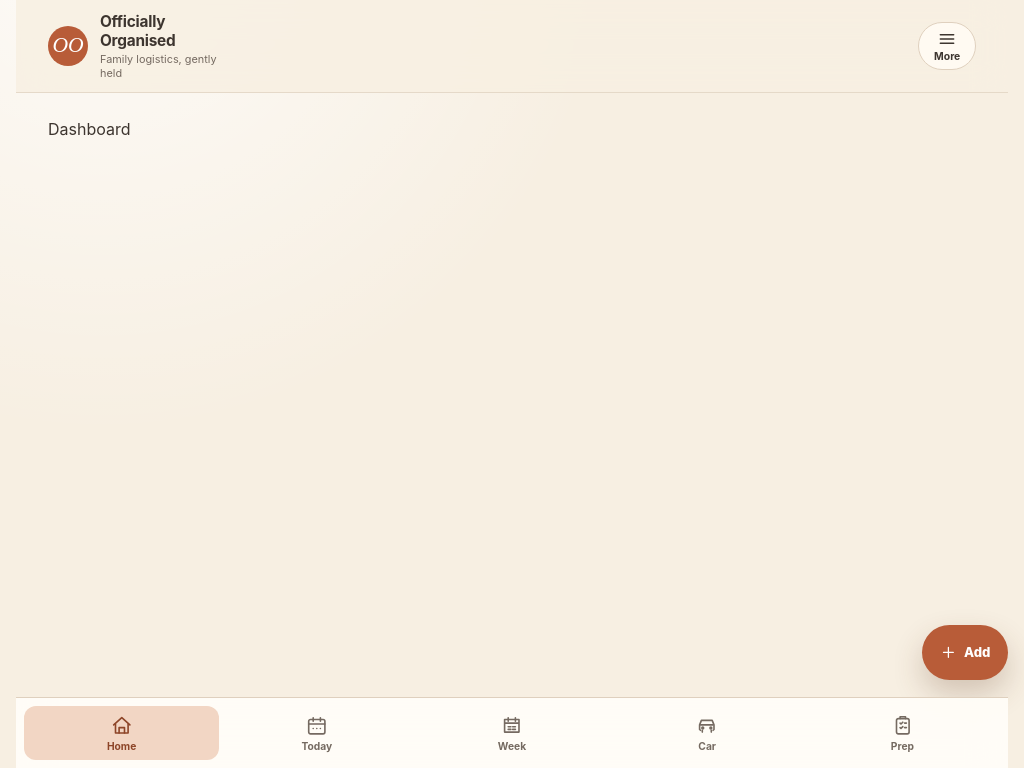
AppShell identity and mobile capture › opens quick capture from the shared add button
The width and height of the screenshot is (1024, 768).
Click the button with aria-label "Quick capture".
click(965, 652)  # box [922,625,1008,680]
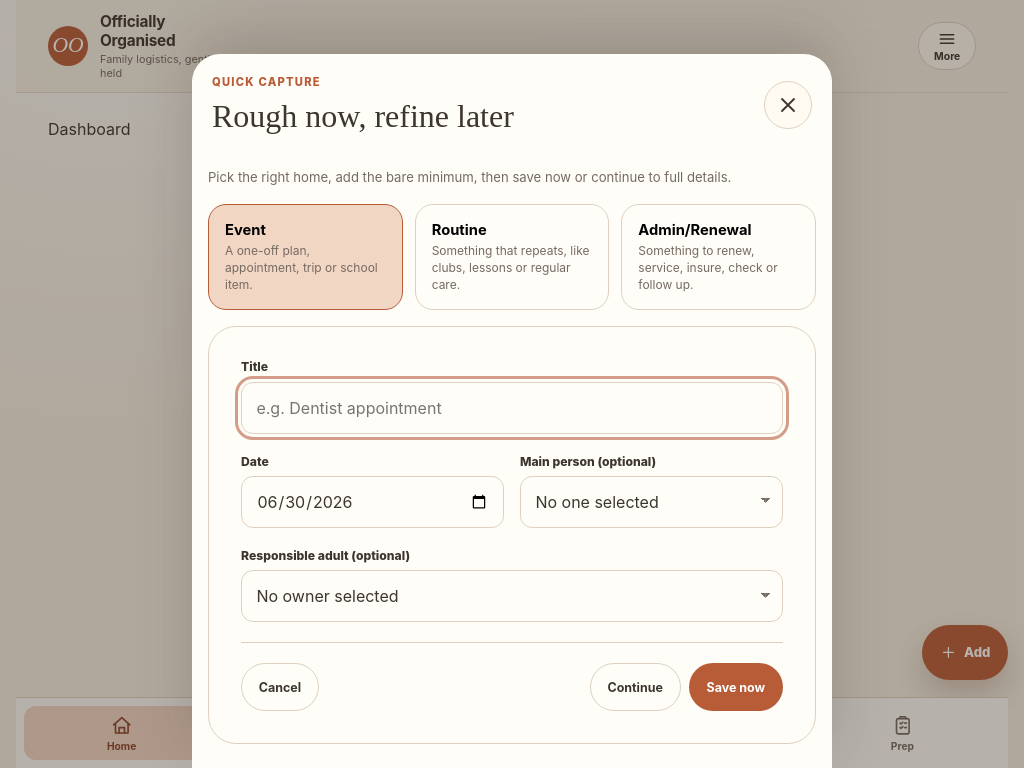
Expected: the dialog "Quick capture" is shown, [192,54,832,767]
Expected: the button "Save now" is shown, [689,663,783,711]
Expected: the button "Continue" is shown, [590,663,681,711]
